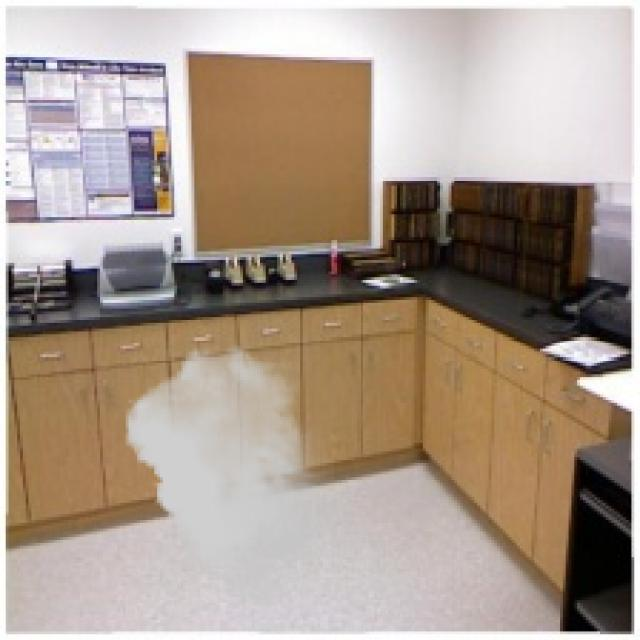smoke: (126, 346, 334, 603)
